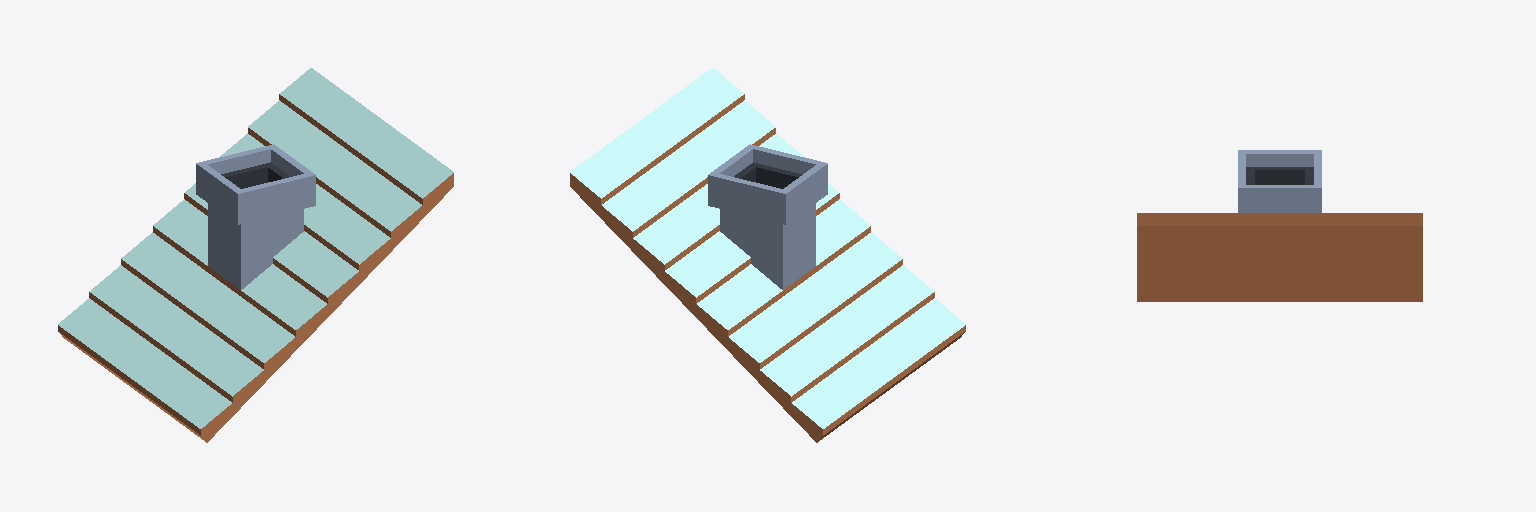
The model's file is cabinRoofChimney.obj.
3 views of the same model, side by side, from view 1: azimuth 30°, elevation 25°; view 2: azimuth 150°, elevation 25°; view 3: azimuth 270°, elevation 25° (orthographic).
Parts seen in each view (by area): view 1: cabinRoofChimney; view 2: cabinRoofChimney; view 3: cabinRoofChimney.
Part boxes in pixels (left/top/right/bottom): cabinRoofChimney: left=58, top=68, right=453, bottom=442; cabinRoofChimney: left=570, top=68, right=965, bottom=442; cabinRoofChimney: left=1137, top=150, right=1422, bottom=301.
Bounding box in the file's own units: 1.21 × 0.9559 × 1.18.